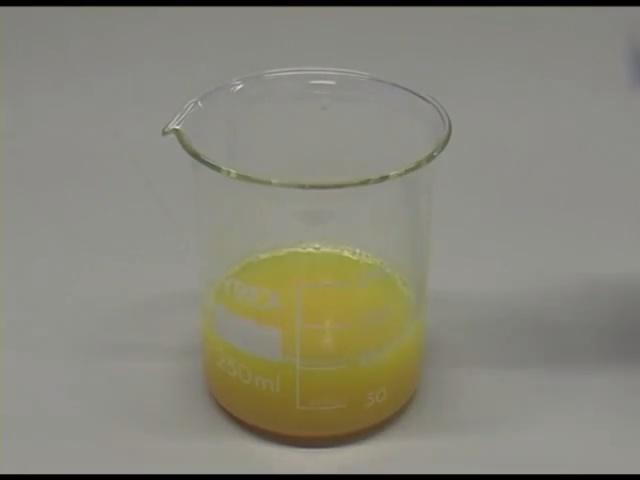Beaker: (159, 71, 451, 445)
